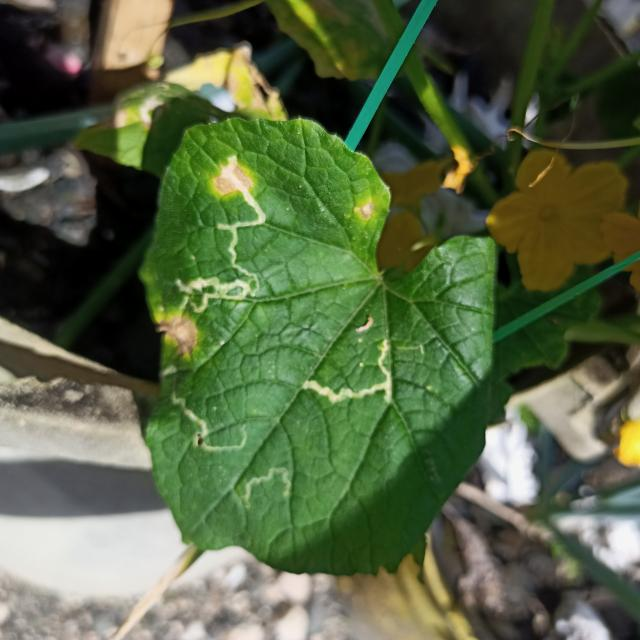disease_cucumber: (154, 313, 201, 354), (211, 162, 255, 196), (355, 195, 383, 225)
